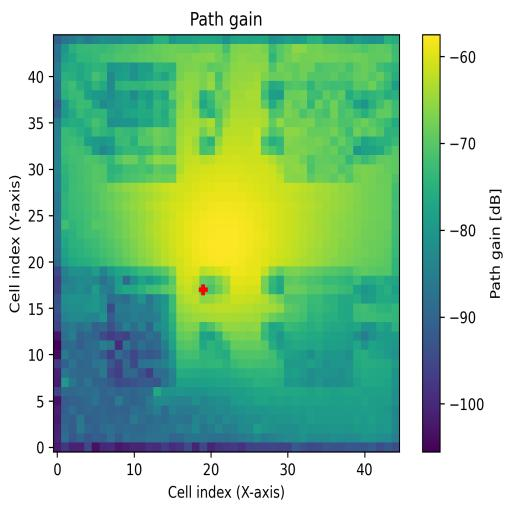Concrete: (284, 64, 352, 182)
Glass: (107, 62, 176, 182)
Metal: (284, 266, 353, 386)
Wood: (99, 266, 177, 385)
